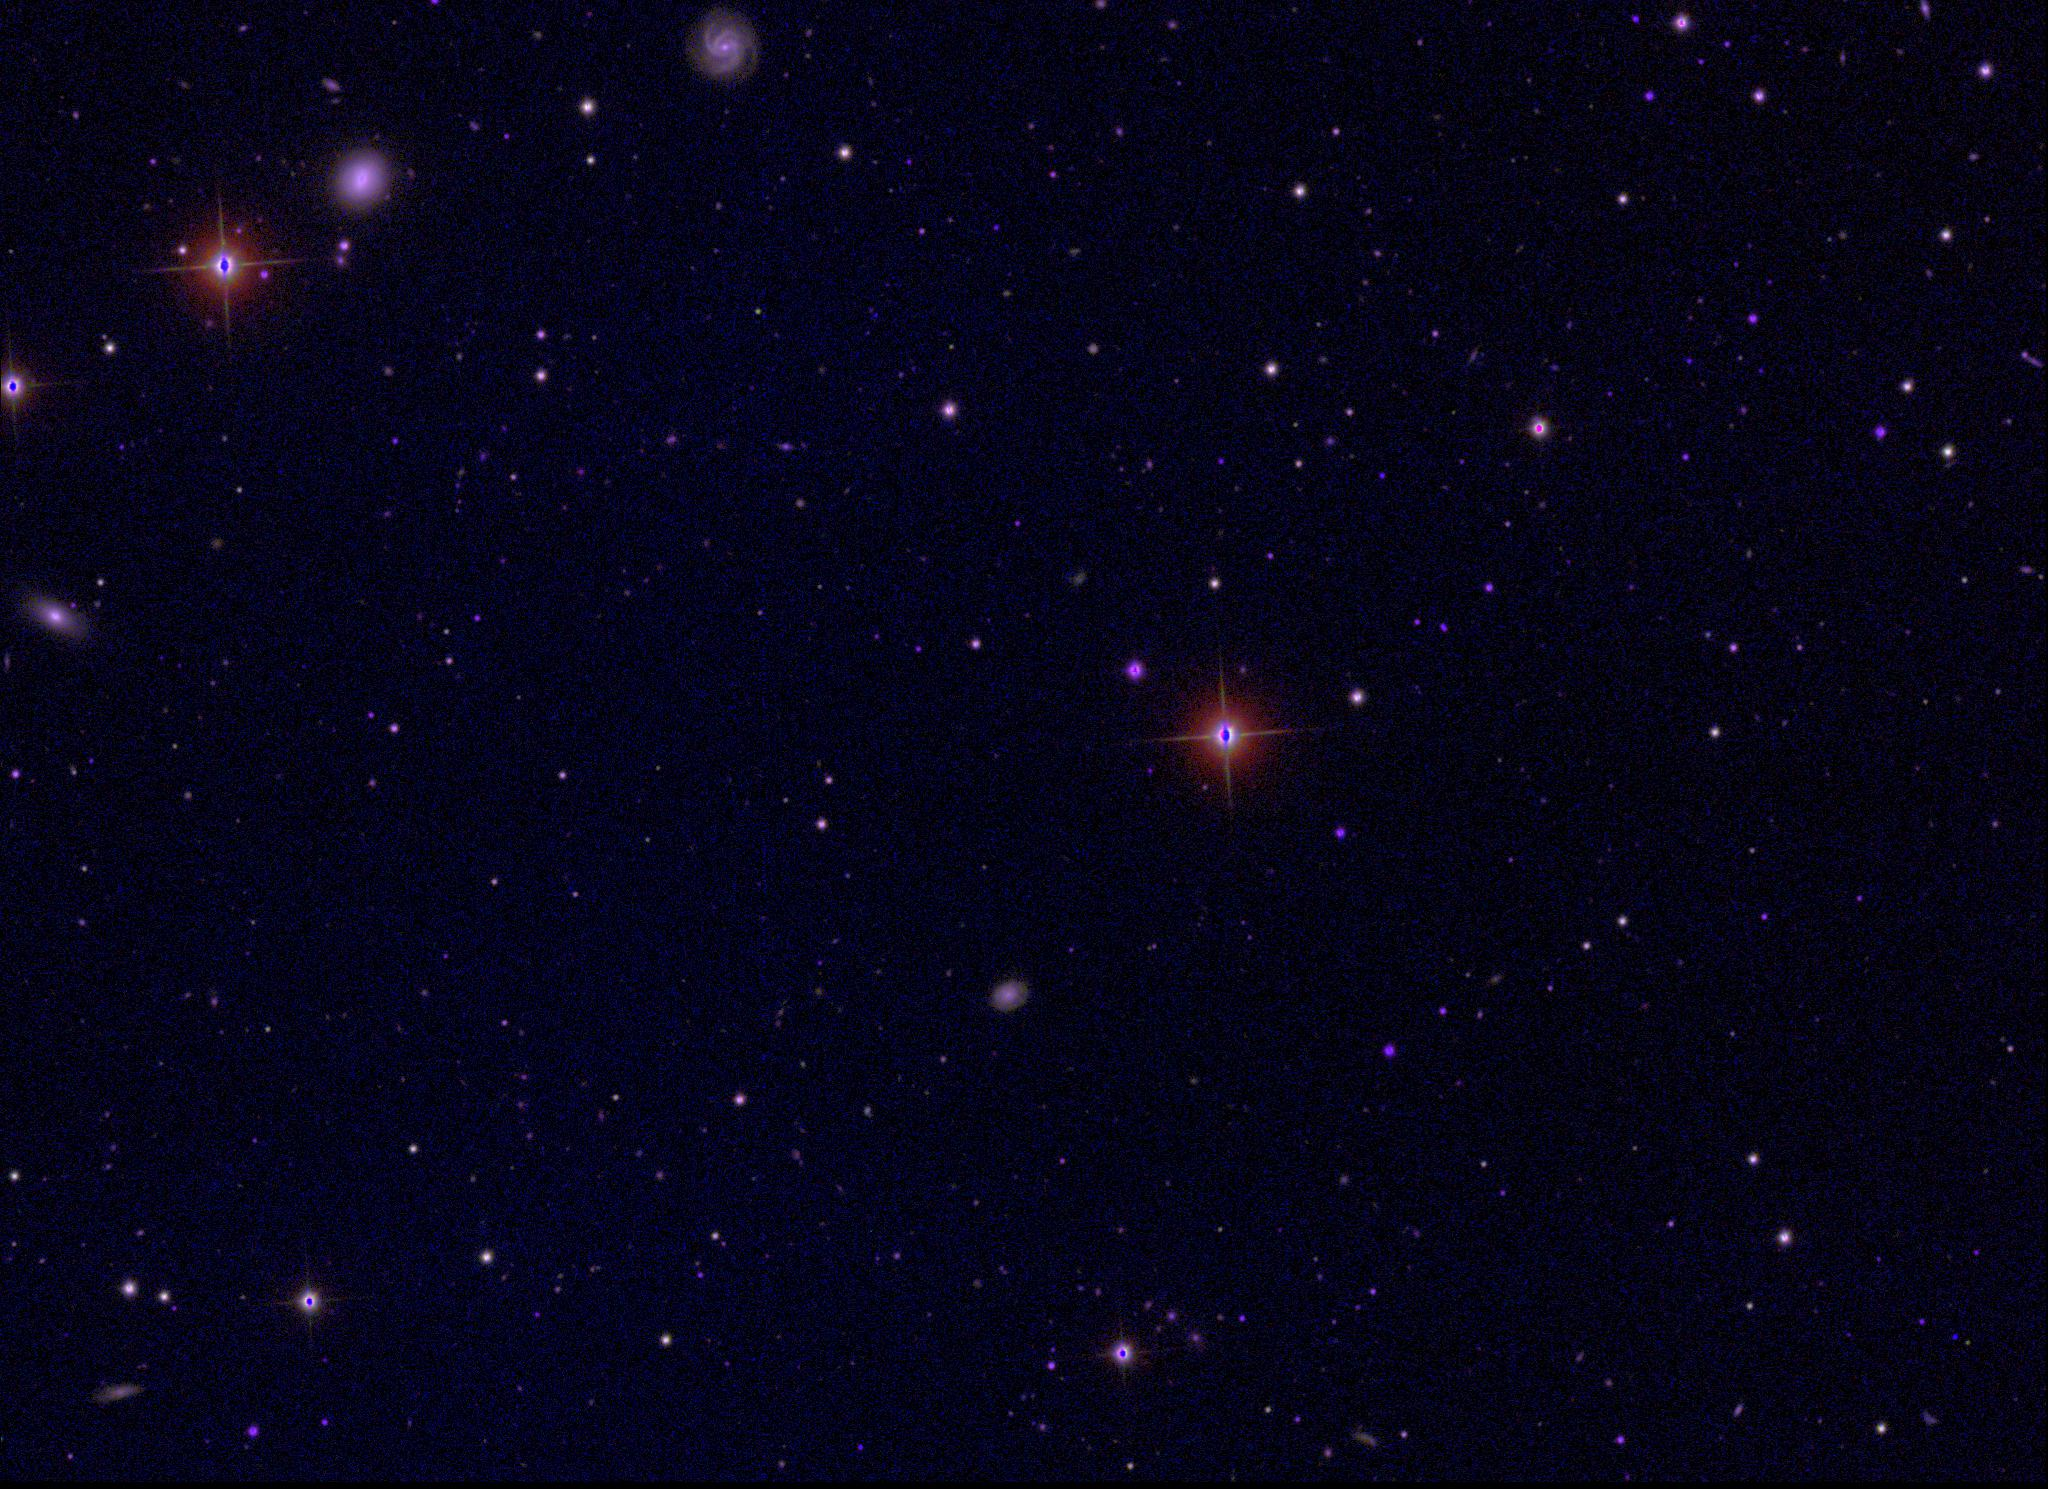L: (1949, 1328, 1964, 1343)
